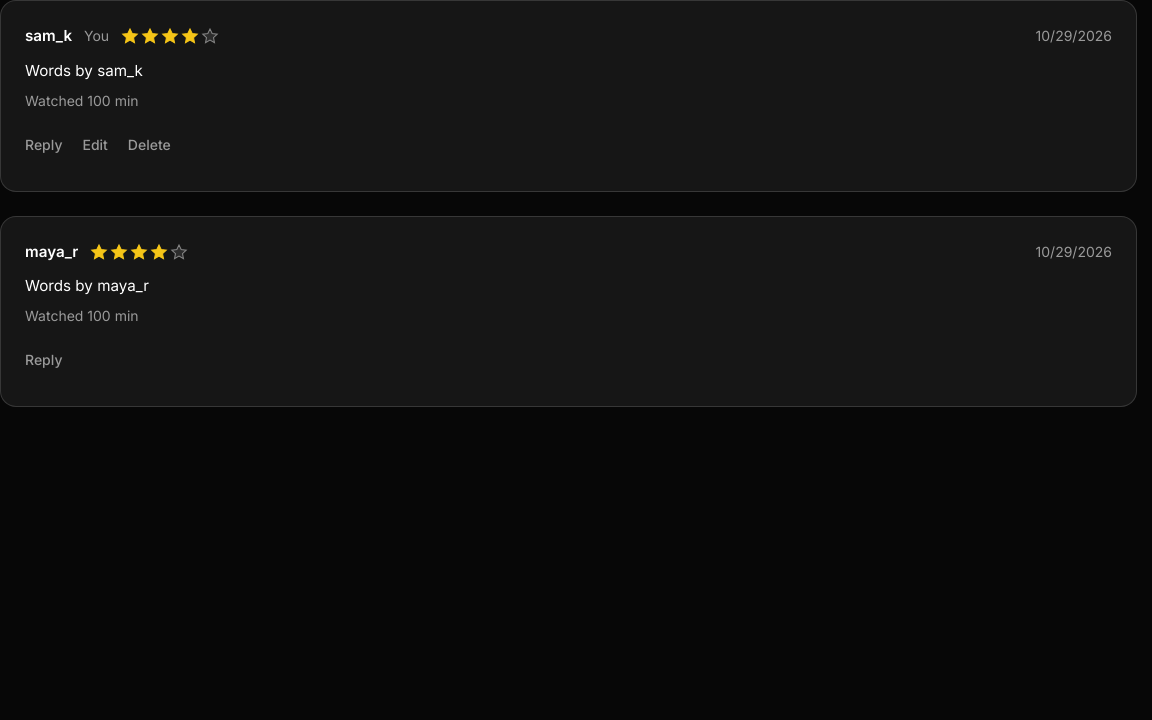
review card actions › Cancel leaves the review as it was
Click the button with aria-label "Edit review by sam_k" at (95, 145), box top-left (82, 123), bottom-right (108, 167)
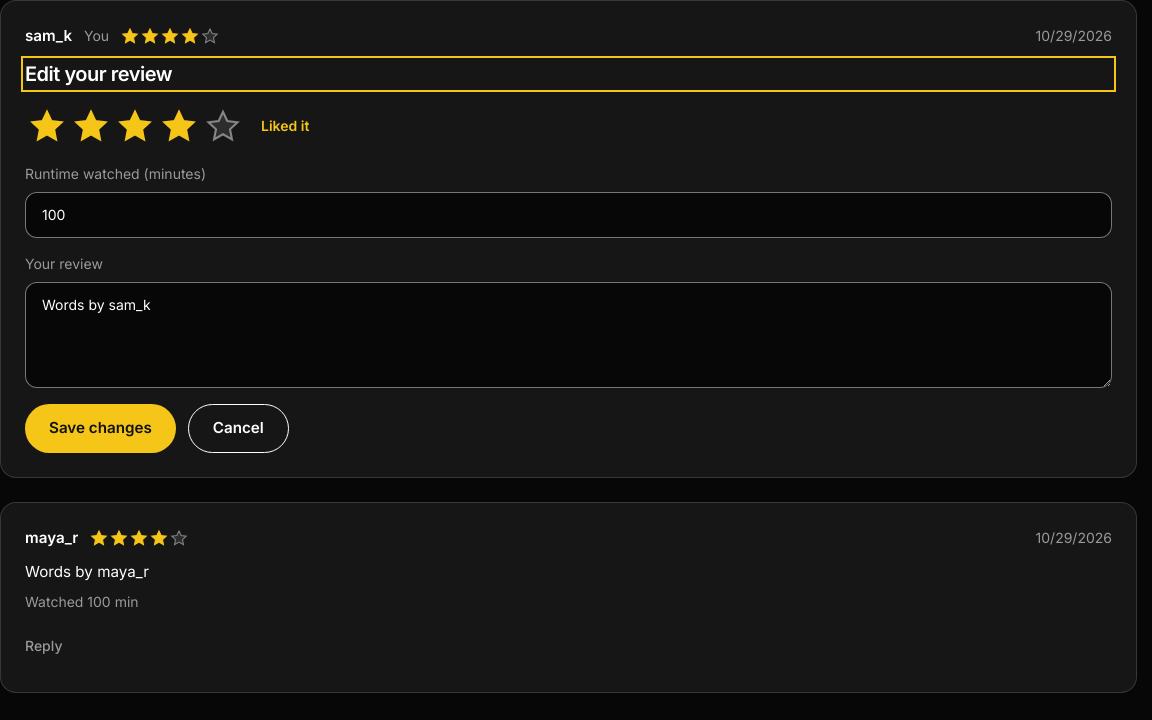
Type " extra" into the text box labelled "Your review" at (568, 335), box top-left (25, 282), bottom-right (1112, 388)
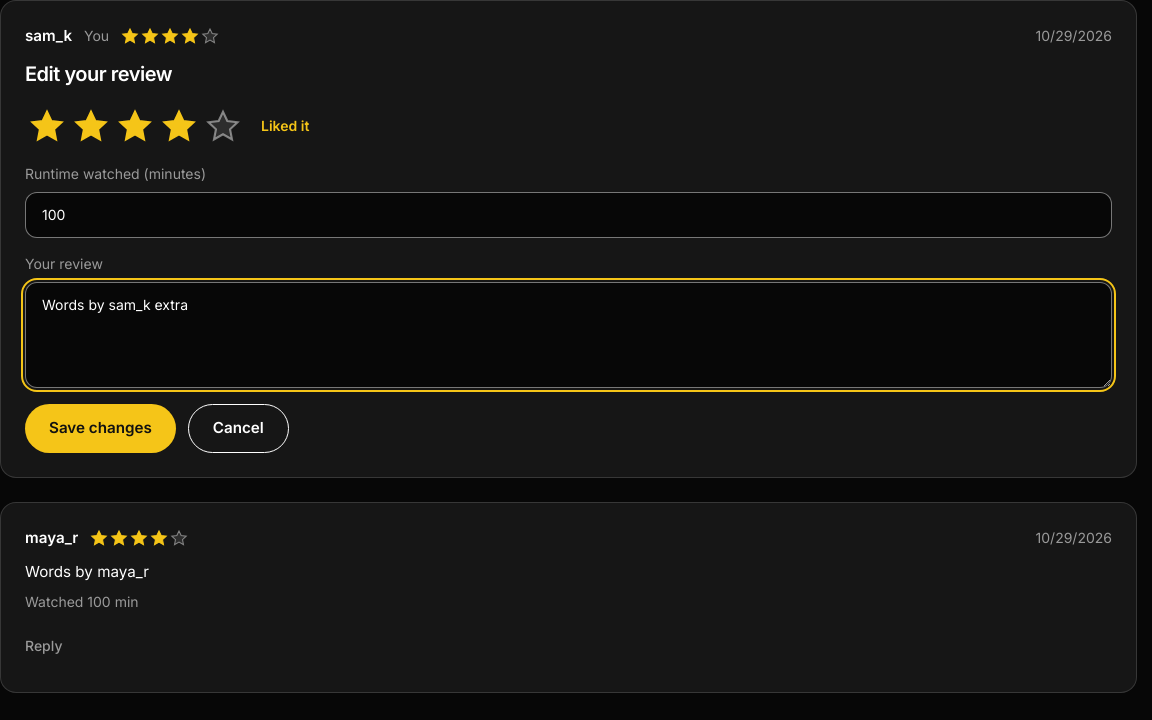
Click the button "Cancel" at (238, 428), box top-left (188, 404), bottom-right (289, 453)
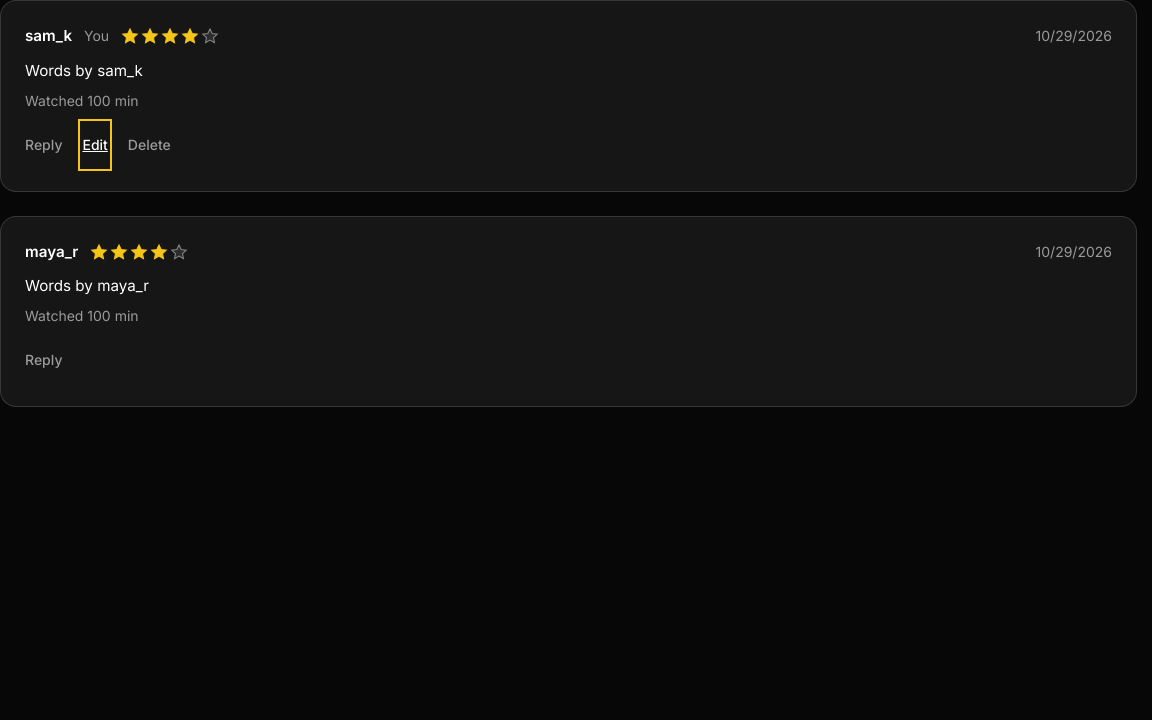
Check: the text "Words by sam_k" is shown, box top-left (25, 61), bottom-right (143, 80)
